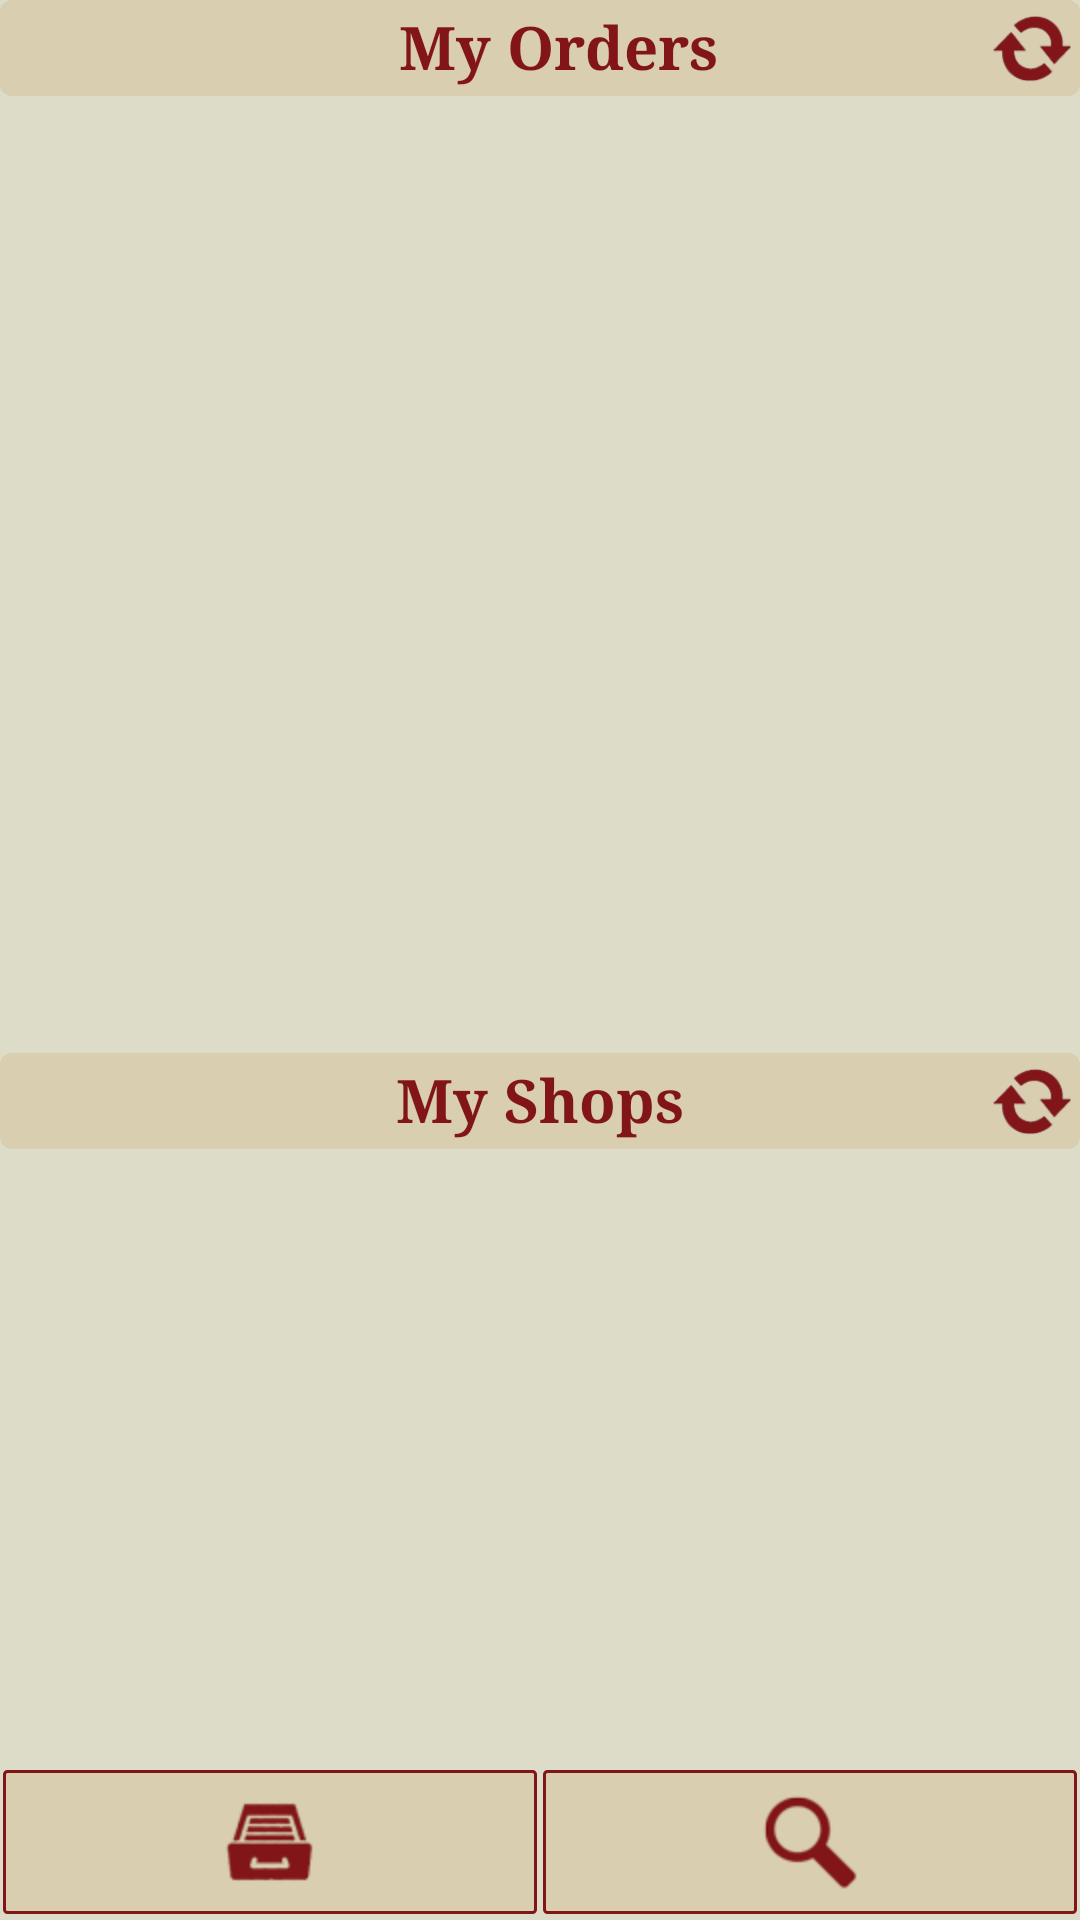

Icon bounding boxes for this 1080 × 1920 phone screenshot, format {"x1": x1, "y1": y1, "x2": x2, "y2": y2}:
refresh: {"x1": 993, "y1": 0, "x2": 1080, "y2": 81}, {"x1": 993, "y1": 1069, "x2": 1071, "y2": 1134}
